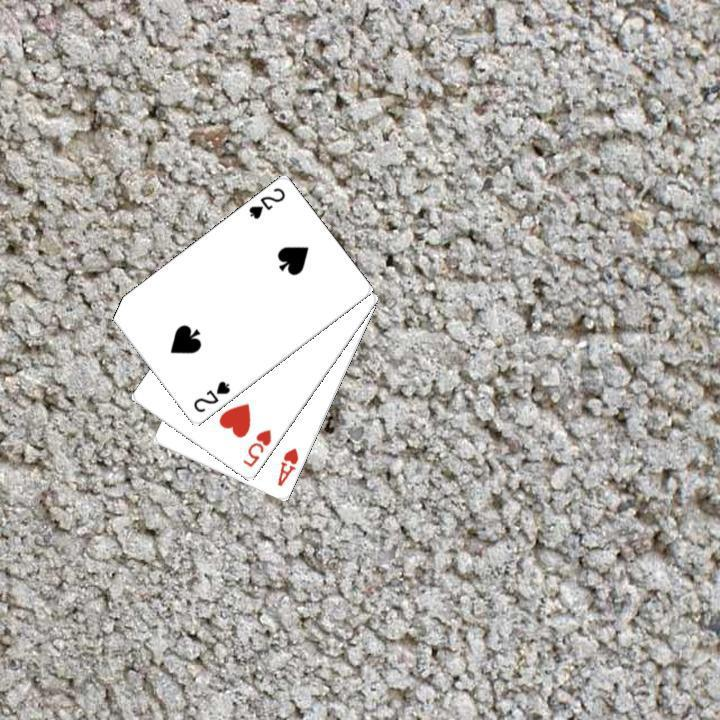2: (244, 183, 287, 222), (189, 377, 232, 415)
5: (238, 425, 274, 470)
A: (273, 444, 301, 489)
